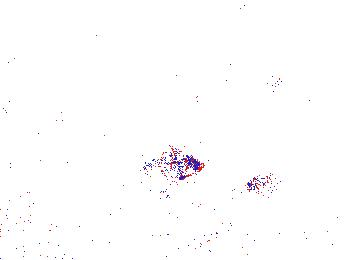X-ray fish: (208, 209, 273, 245), (154, 145, 205, 183), (241, 62, 290, 97), (244, 167, 294, 197), (154, 184, 199, 205)
